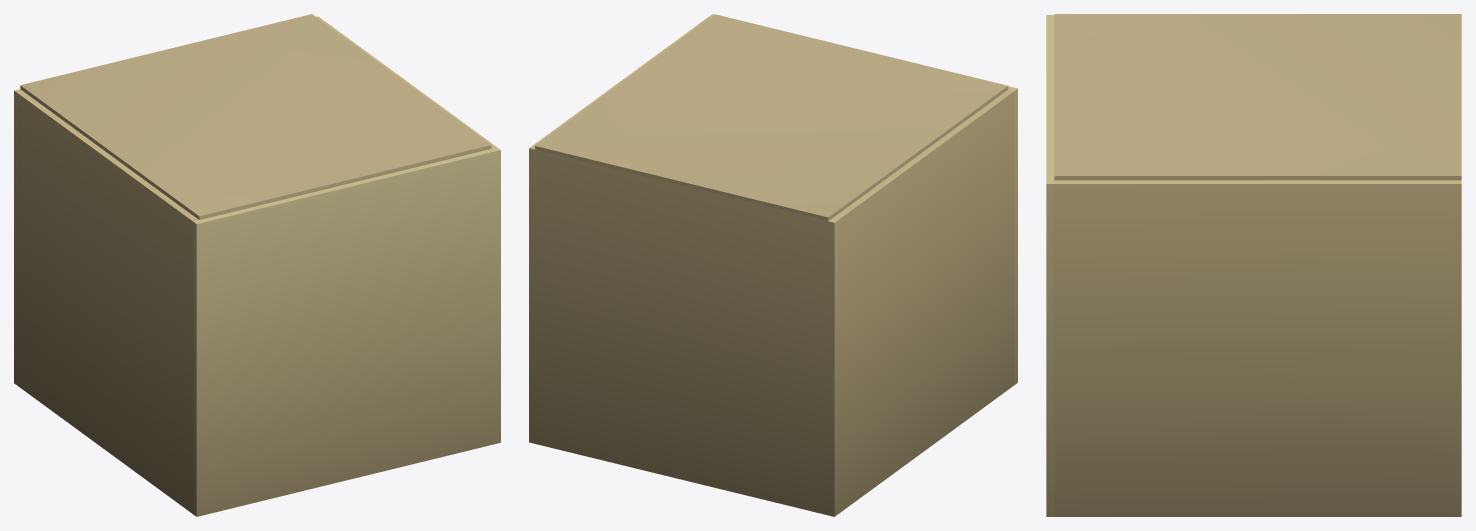
File: kitchen.glb
3 renders of one model, left to right at view 1: azimuth 30°, elevation 25°; view 2: azimuth 150°, elevation 25°; view 3: azimuth 270°, elevation 25°, orthographic. The views are drawn at different scales.
Parts seen in each view (by area): view 1: Set_Room; view 2: Set_Room; view 3: Set_Room.
Part boxes in pixels (<box>): Set_Room: <box>14,14,500,516</box>; Set_Room: <box>529,14,1017,516</box>; Set_Room: <box>1046,14,1461,516</box>.
Size of what is drawn, in the model's own units: 25 by 23.3 by 26.
